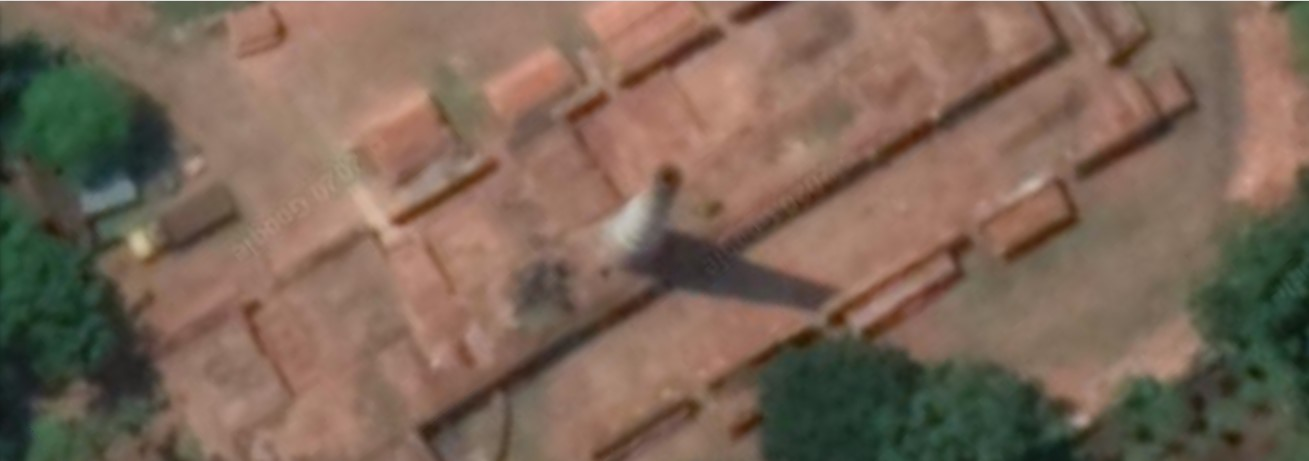kiln: (205, 64, 1038, 332)
